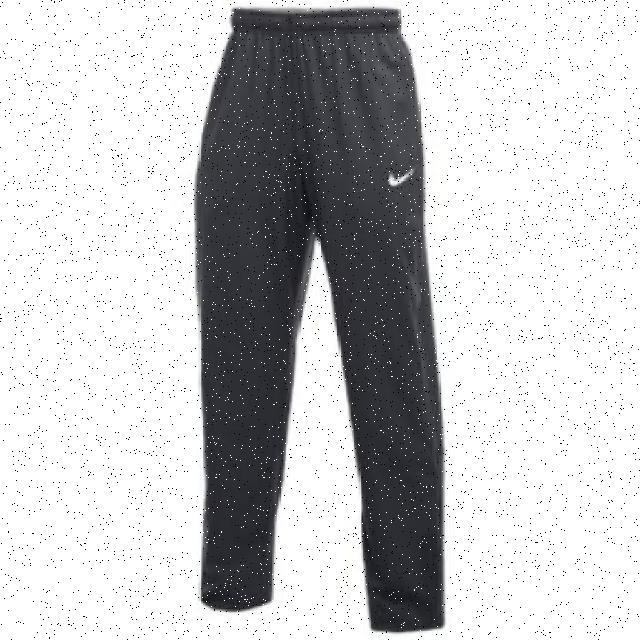Nike: (386, 168, 412, 184)
